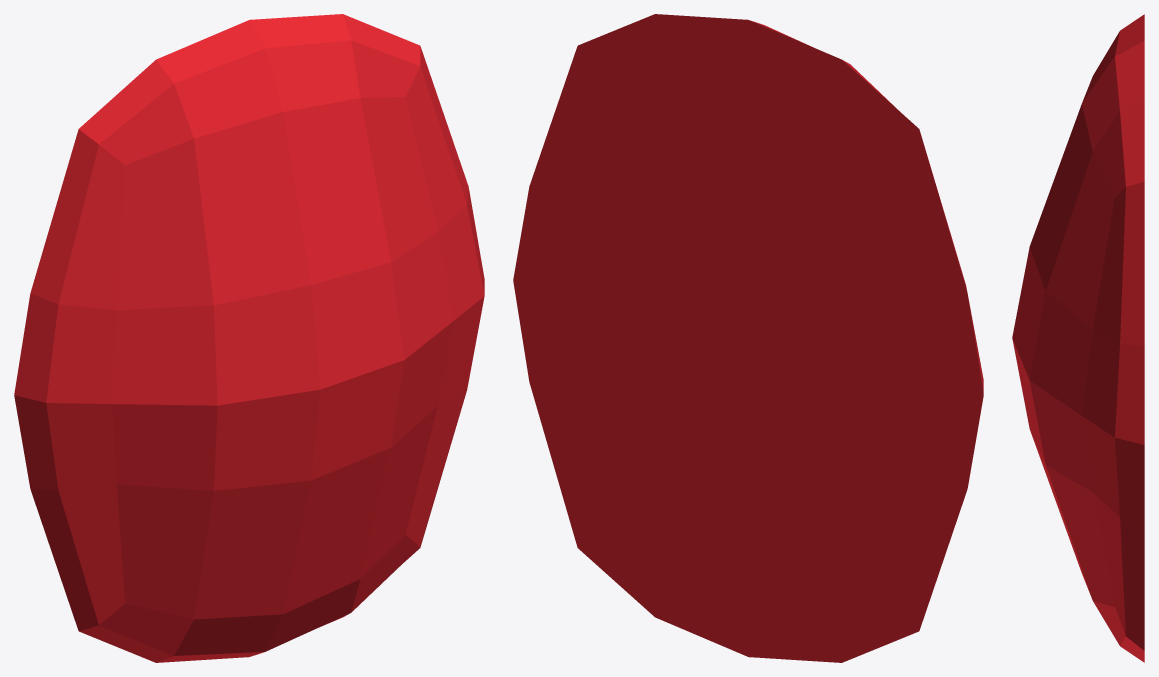
File: chest_test.glb
3 renders of one model, left to right at view 1: azimuth 30°, elevation 25°; view 2: azimuth 150°, elevation 25°; view 3: azimuth 270°, elevation 25°, orthographic. The views are drawn at different scales.
Visible parts, largest first — view 1: chest; view 2: chest; view 3: chest.
Part boxes in pixels (left/top/right/bottom): chest: left=14, top=14, right=484, bottom=662; chest: left=513, top=14, right=983, bottom=662; chest: left=1012, top=14, right=1144, bottom=662.
Size of the model in its own units: 1.68 by 2.17 by 0.4382.
